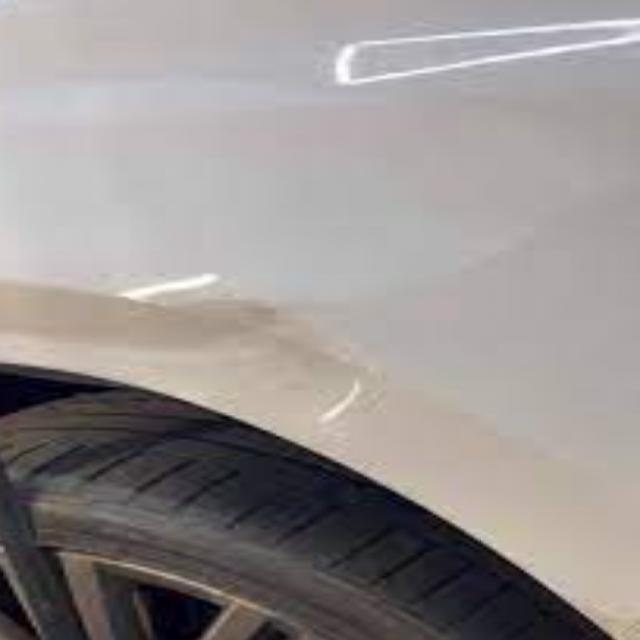dents: (144, 264, 400, 418)
